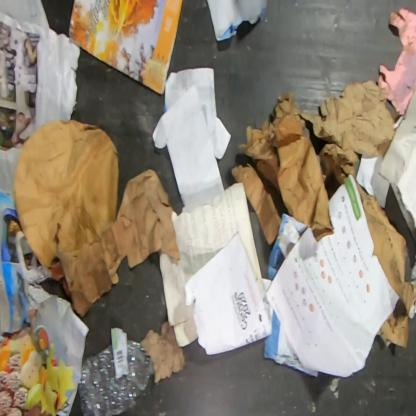cardboard: (0, 296, 90, 415), (356, 181, 416, 348)
rigid_plastic: (77, 327, 155, 415)
